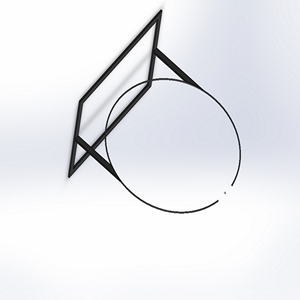circle: (66, 8, 243, 216)
